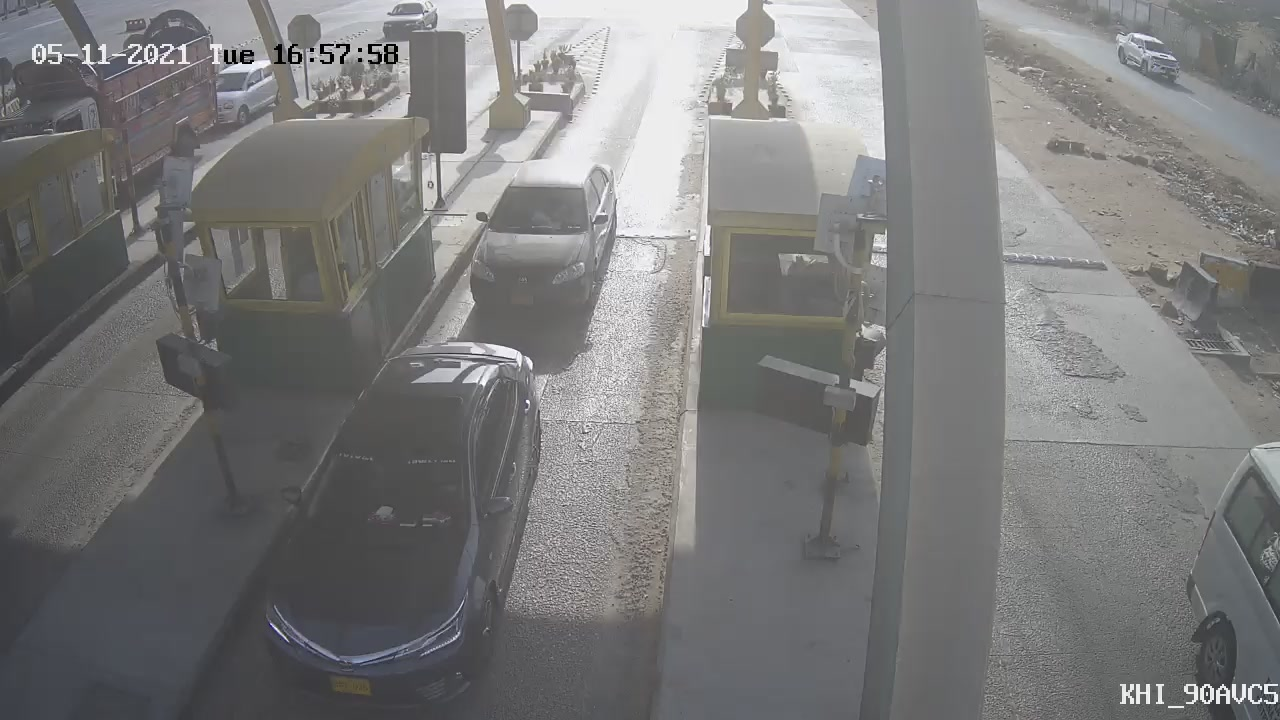F1: (451, 144, 639, 333)
